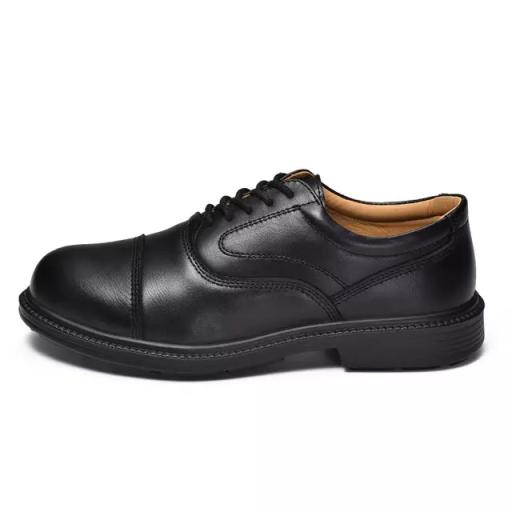safety_boots: (0, 170, 490, 382)
